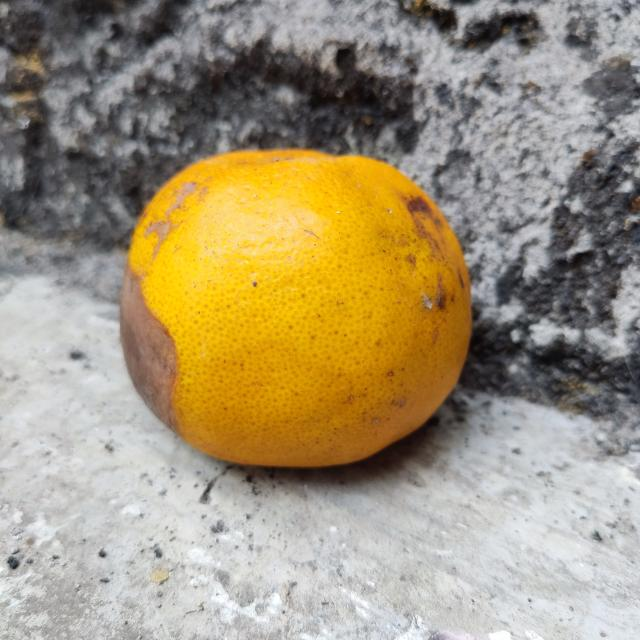orange: (118, 147, 472, 470)
